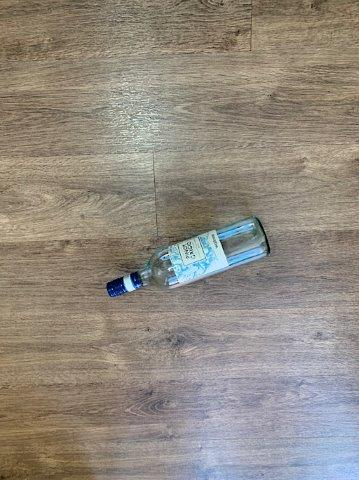botolkaca: (108, 218, 270, 297)
